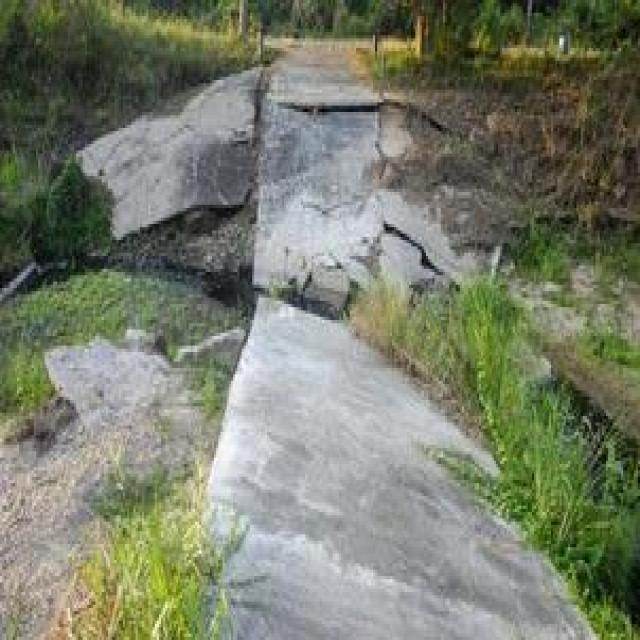road collapse: (0, 15, 640, 602)
